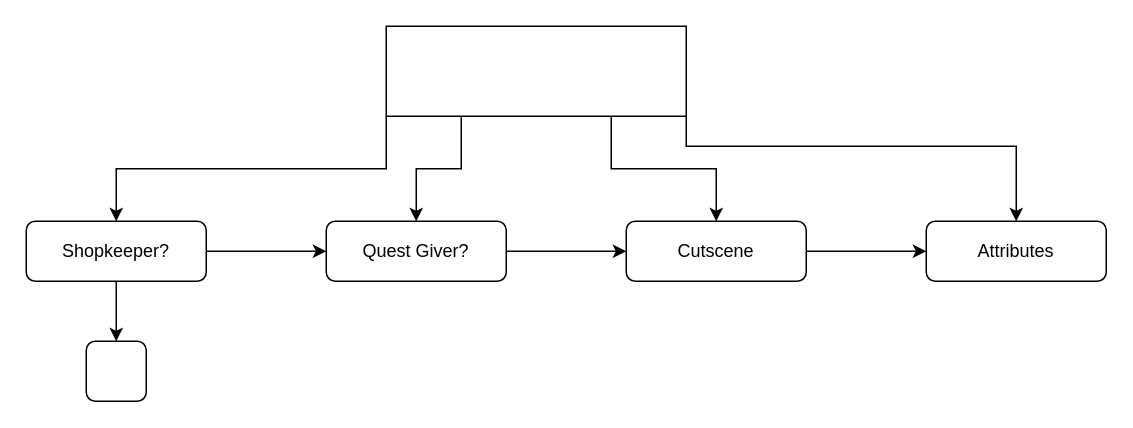
This 1133x428 diagram has some shape labels left out. Each missing label, with the centre of its shape:
NPC: the point at 535,70
Yes?: the point at 115,370
